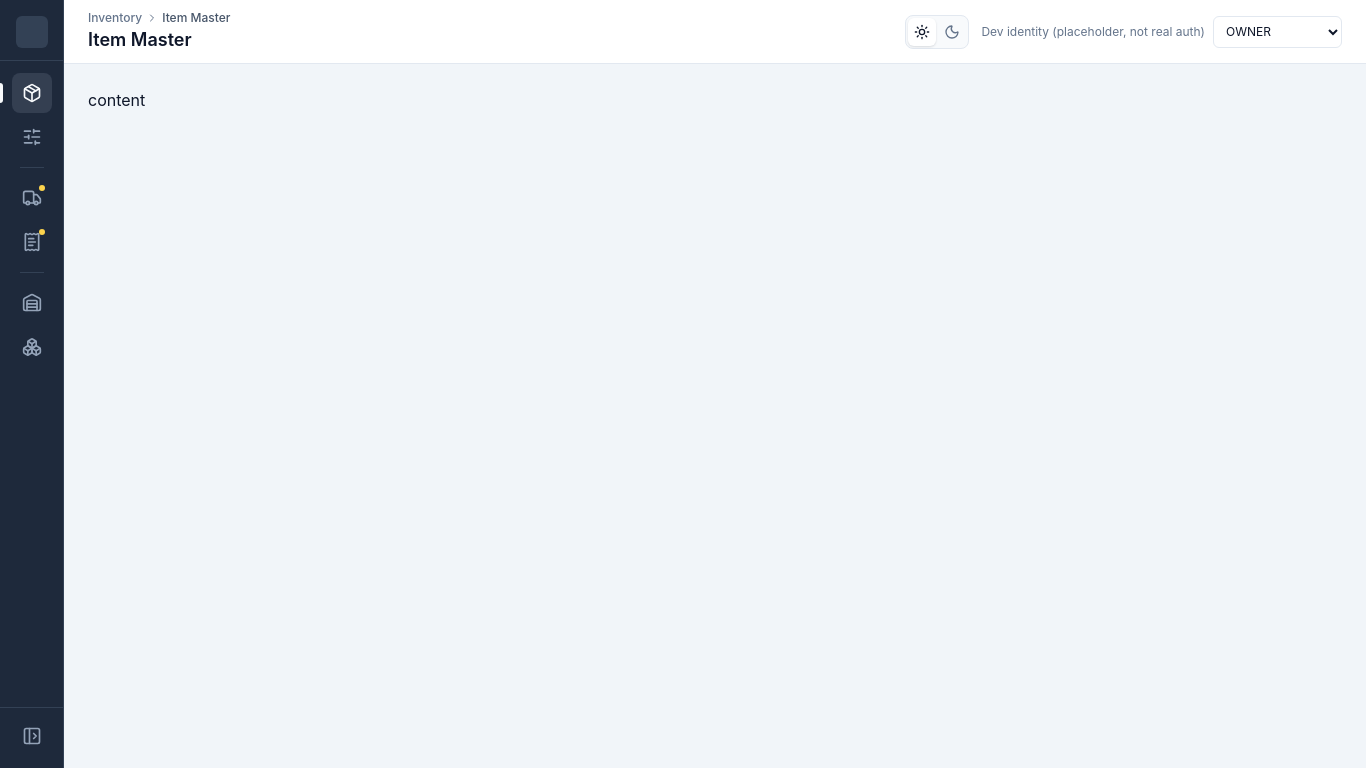
AppShell — tablet / touch (≥ 768px, no hover) › never opens on hover; the rail button opens a modal peek with scrim
This screenshot has width=1366, height=768.
Hover over the element named "Primary" at (32, 384), box top-left (0, 0), bottom-right (64, 767)
Check: the button "Pin sidebar" is not shown
Click the button named "Expand navigation" at (32, 736), box top-left (12, 716), bottom-right (52, 756)
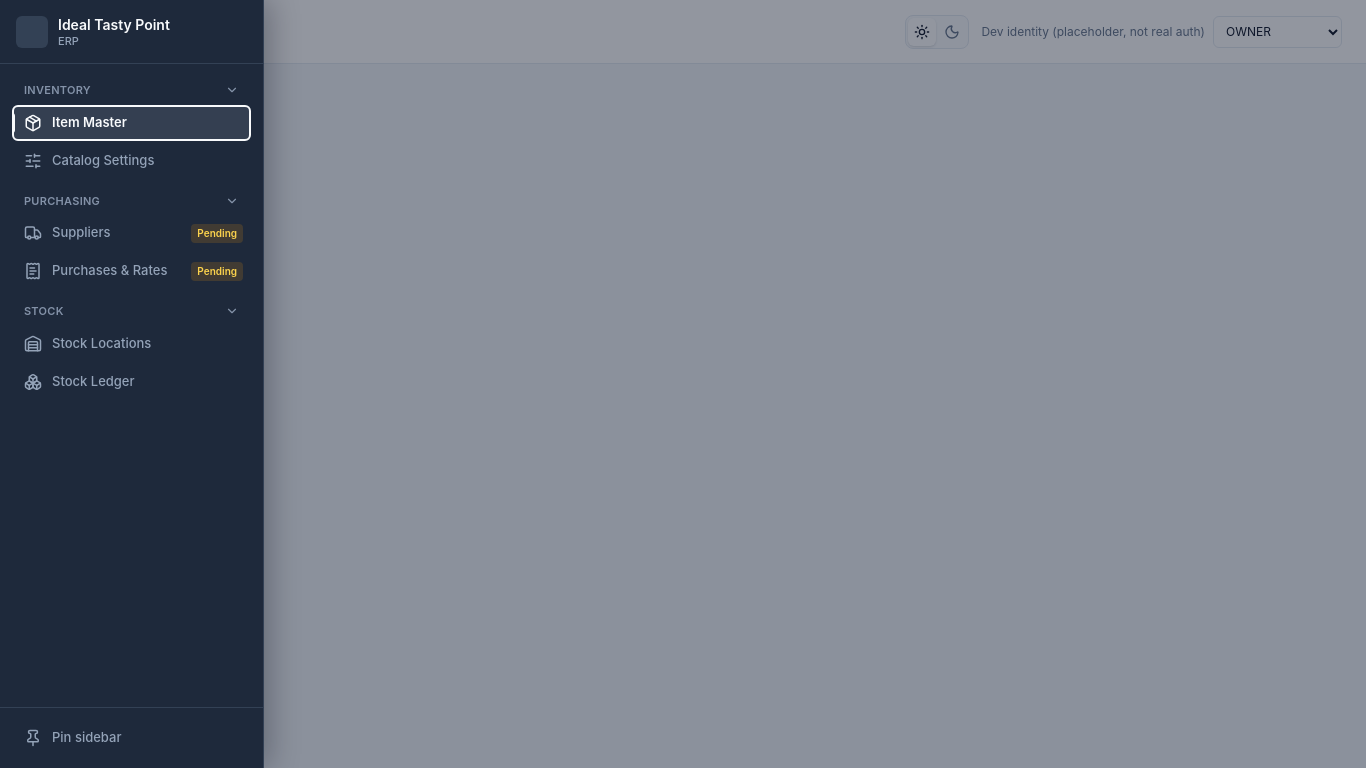
Check: the element with test id "shell-content" has attribute inert, box top-left (64, 0), bottom-right (1365, 110)
Click the element with test id "sidebar-scrim" at (683, 384), box top-left (0, 0), bottom-right (1365, 767)
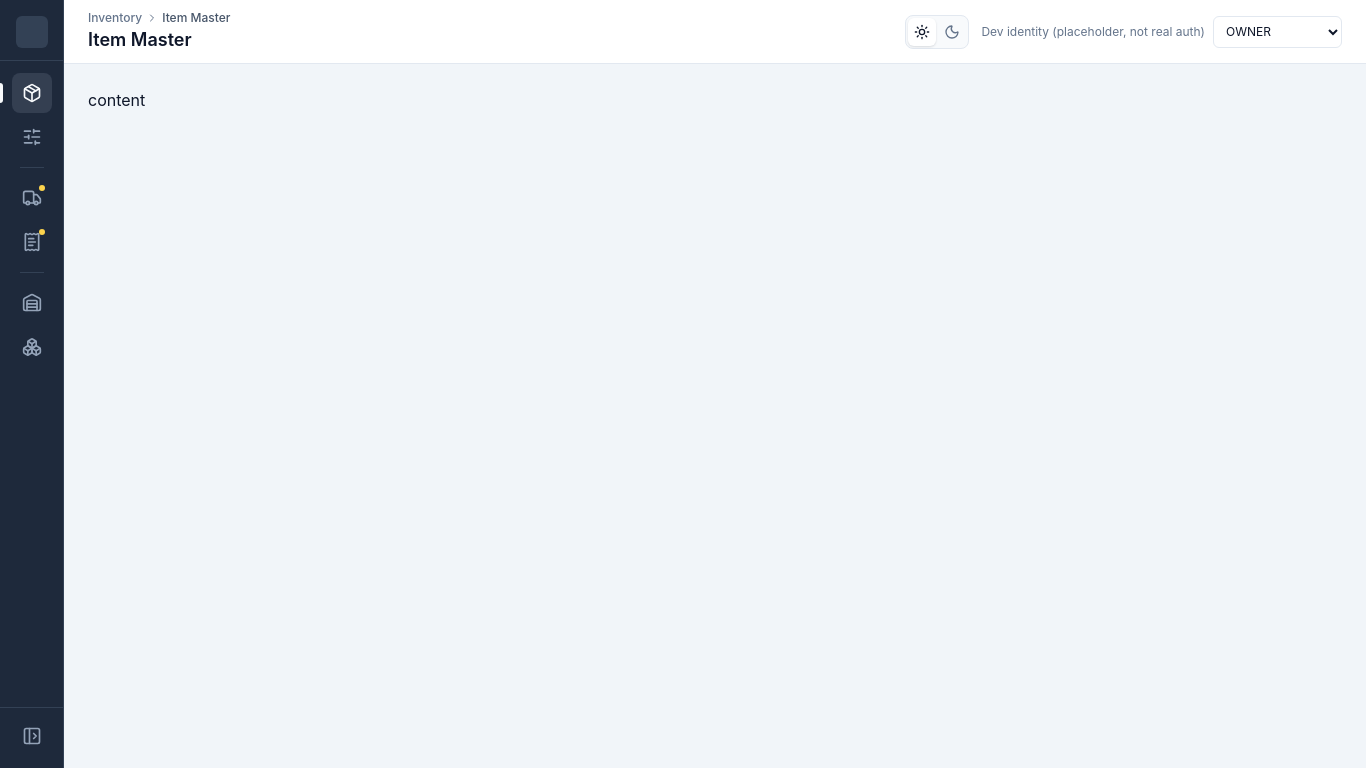
Check: the dialog with test id "sidebar-peek" is gone
